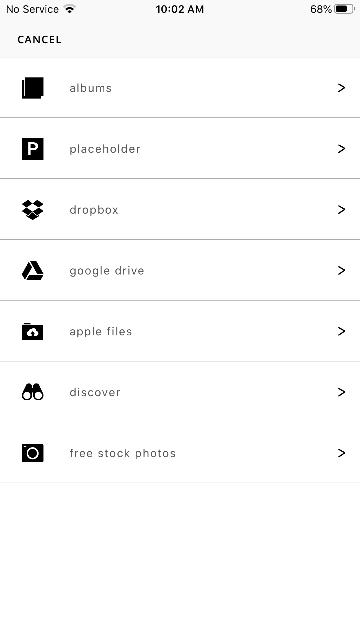Icon: (22, 138, 43, 160), (22, 78, 43, 99), (22, 200, 43, 220), (22, 262, 43, 280), (22, 322, 43, 340), (22, 444, 43, 462), (22, 384, 43, 401), (338, 449, 344, 457), (338, 388, 344, 396), (338, 327, 344, 335), (338, 266, 344, 274), (338, 205, 344, 213), (338, 145, 344, 153), (338, 84, 344, 92)
List: (0, 56, 360, 484)
Text: (70, 449, 176, 459), (70, 266, 144, 276), (70, 145, 140, 155), (70, 327, 132, 338), (71, 205, 118, 215), (70, 388, 120, 396), (70, 84, 112, 92), (18, 36, 62, 42)
UpperTaskBar: (0, 0, 360, 14)
